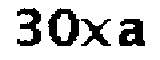0: (45, 6, 80, 50)
3: (11, 4, 45, 49)
a: (117, 18, 150, 52)
x: (80, 17, 115, 51)
